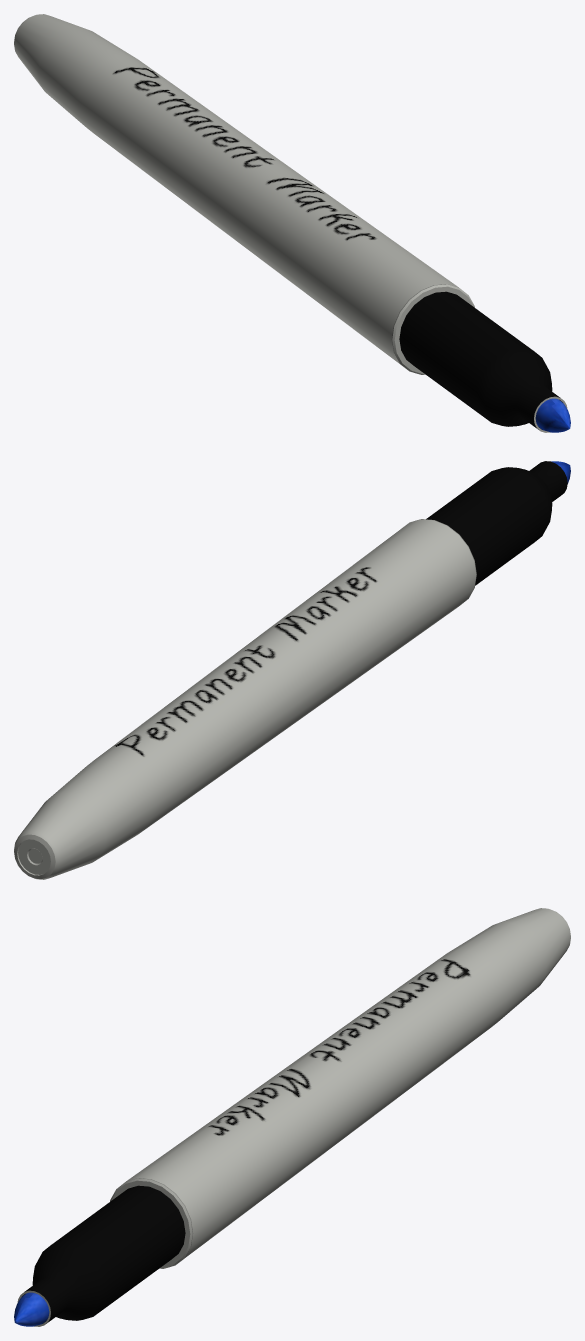
File: Marker.fbx
3 views of the same model, one above another, from view 1: azimuth 30°, elevation 25°; view 2: azimuth 150°, elevation 25°; view 3: azimuth 330°, elevation 25° (orthographic).
Visible parts, largest first — view 1: defaultMaterial.004; view 2: defaultMaterial.004; view 3: defaultMaterial.004.
Boxes of the visible parts, x1,y1,x2,y2 form: defaultMaterial.004: (14, 14, 570, 432); defaultMaterial.004: (14, 461, 570, 879); defaultMaterial.004: (14, 908, 570, 1326).
Size of the model in its own units: 14.15 by 14.15 by 155.
Materials: 1 (1 with a texture image).
